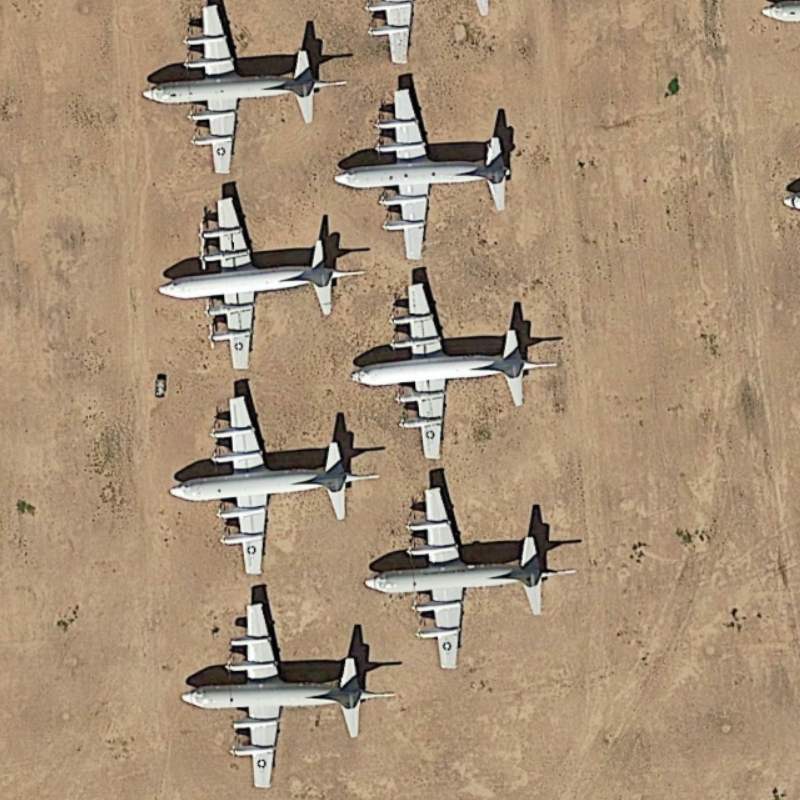A9: (359, 469, 583, 681), (178, 589, 398, 790), (348, 276, 567, 472), (161, 391, 382, 578), (150, 193, 365, 376), (141, 4, 353, 184), (334, 86, 520, 264)
